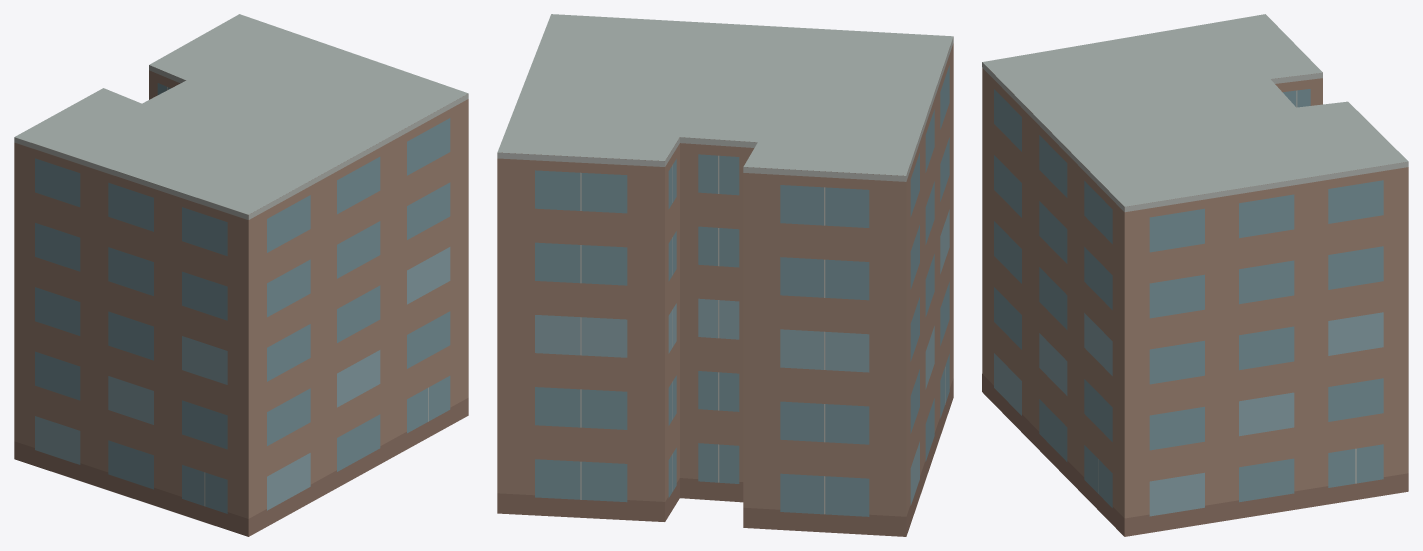
File: survey-upis-32884322.glb
The picture shows the model from 3 angles, left to right: view 1: azimuth 30°, elevation 25°; view 2: azimuth 150°, elevation 25°; view 3: azimuth 270°, elevation 25°; orthographic projection. The views are drawn at different scales.
Parts seen in each view (by area): view 1: survey-upis-32884322.tmp; view 2: survey-upis-32884322.tmp; view 3: survey-upis-32884322.tmp.
Boxes of the visible parts, x1,y1,x2,y2 form: survey-upis-32884322.tmp: [14, 14, 468, 536]; survey-upis-32884322.tmp: [497, 14, 953, 536]; survey-upis-32884322.tmp: [982, 14, 1408, 536].
Bounding box in the file's own units: 18.43 × 14.7 × 17.22.
